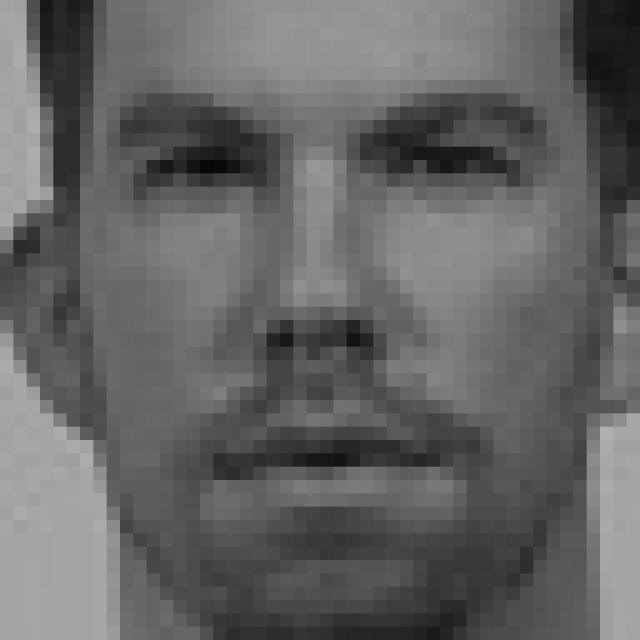neutral: (105, 71, 553, 530)
